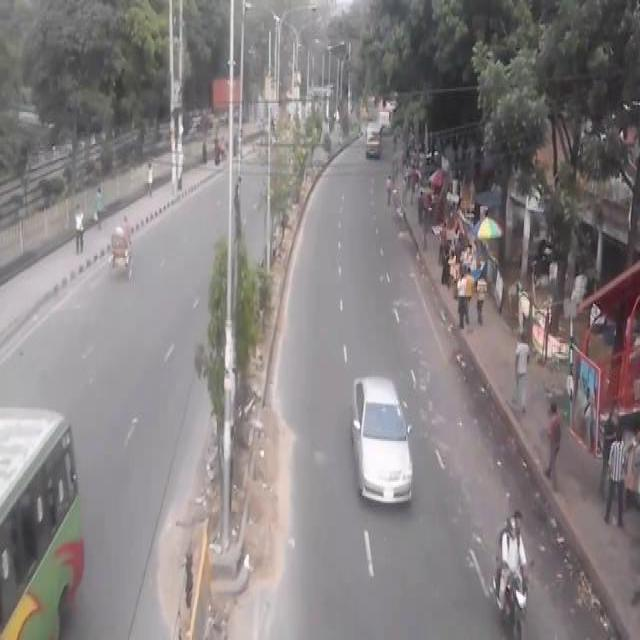10: (488, 509, 534, 639)
13: (106, 213, 134, 284)
5: (348, 372, 414, 510)
Truck: (0, 400, 85, 636), (362, 118, 383, 159)
